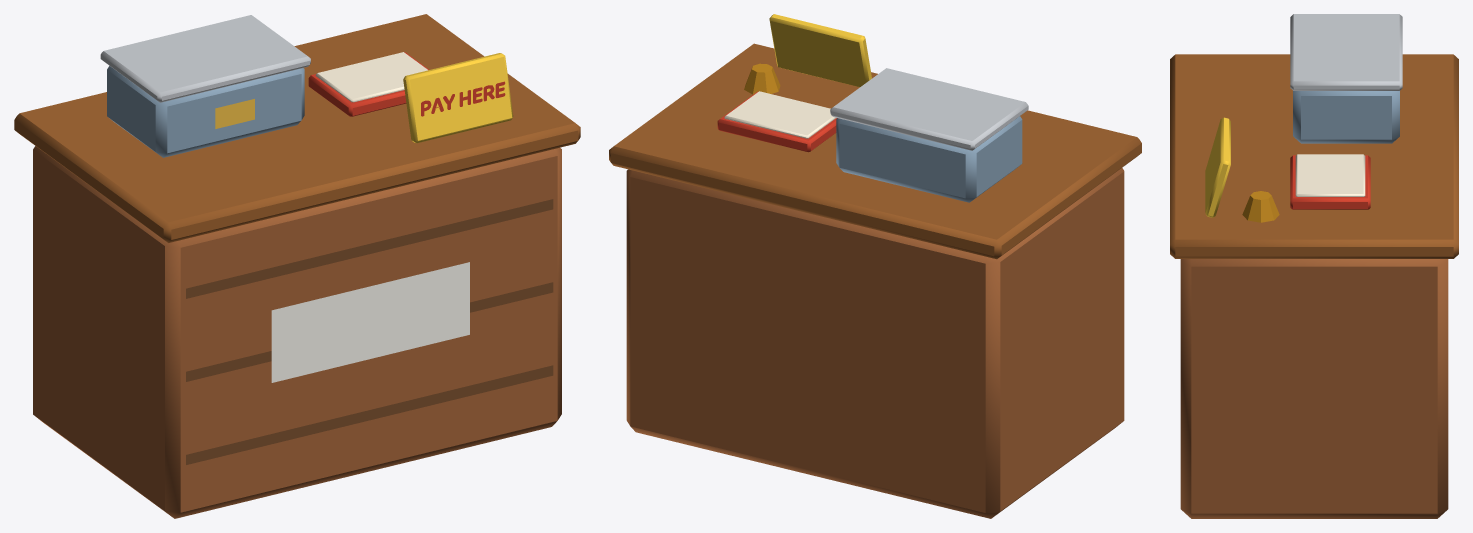
Rendered from growth_cash_box.glb.
3 views of the same model, side by side, from view 1: azimuth 30°, elevation 25°; view 2: azimuth 150°, elevation 25°; view 3: azimuth 270°, elevation 25° (orthographic). The views are drawn at different scales.
Visible parts, largest first — view 1: growth_cash_box; view 2: growth_cash_box; view 3: growth_cash_box.
Boxes of the visible parts, x1,y1,x2,y2 form: growth_cash_box: [14, 14, 580, 518]; growth_cash_box: [609, 14, 1141, 518]; growth_cash_box: [1170, 14, 1458, 518].
Size of the model in its own units: 0.84 by 0.725 by 0.54.
1 material, 1 textured.
